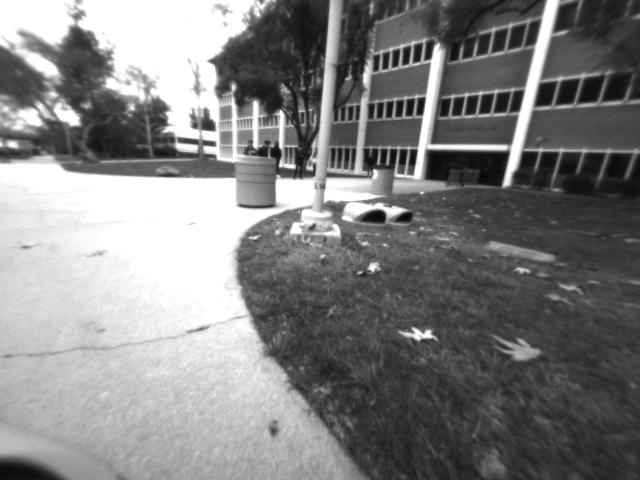trashcan: (232, 147, 283, 213), (367, 160, 400, 199)
